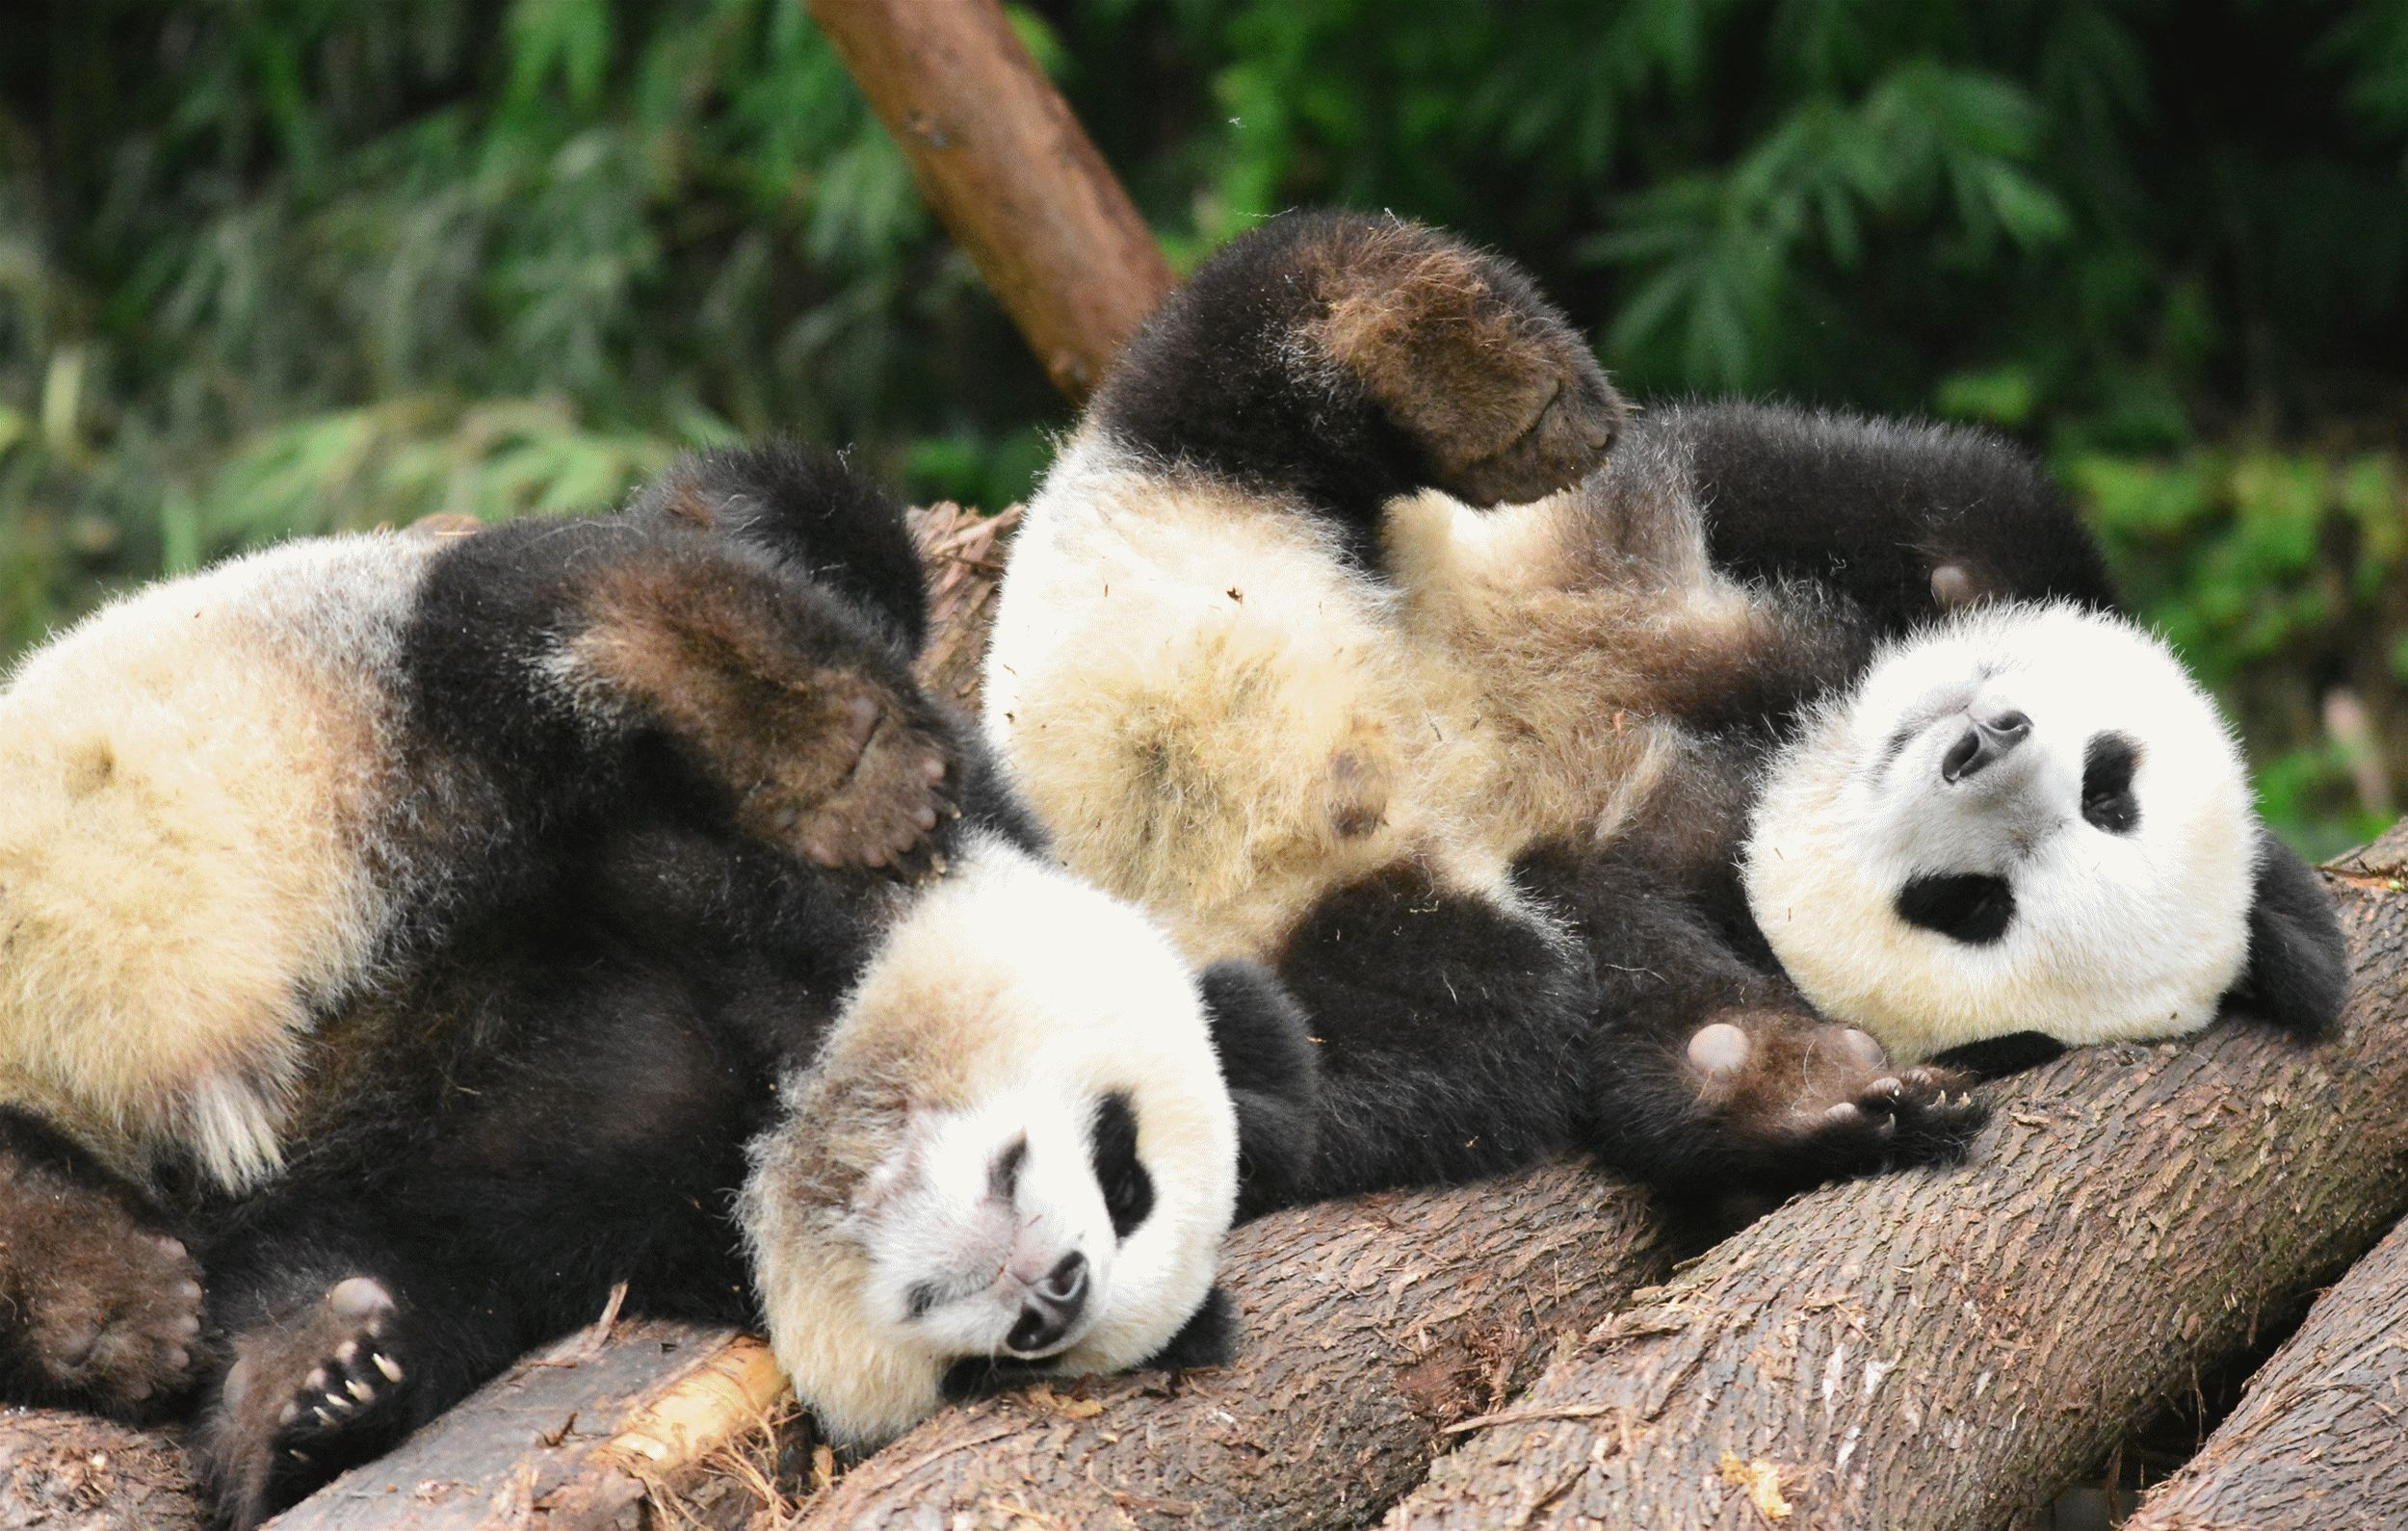panda: (1009, 130, 2262, 1214), (35, 503, 1336, 1466)
